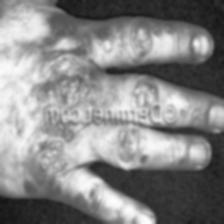Non-Cancerous Skin Condition: (18, 16, 160, 67), (28, 129, 144, 185), (35, 80, 157, 105)
